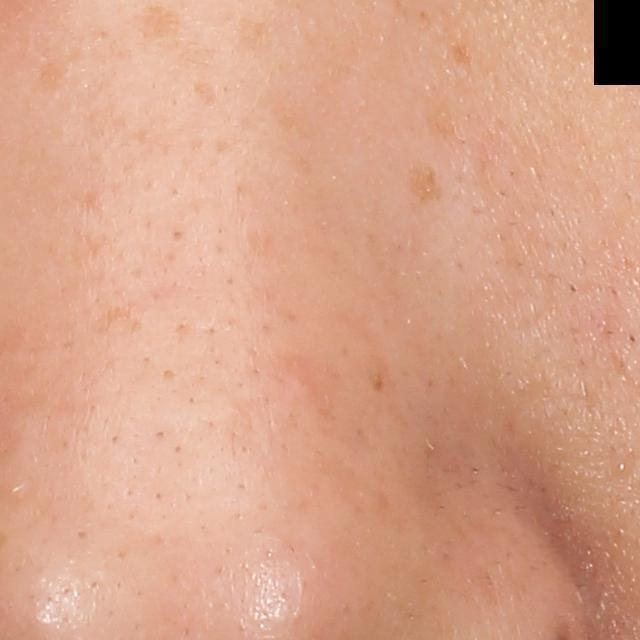melasma: (405, 159, 443, 205), (130, 7, 179, 42), (449, 43, 473, 70)
